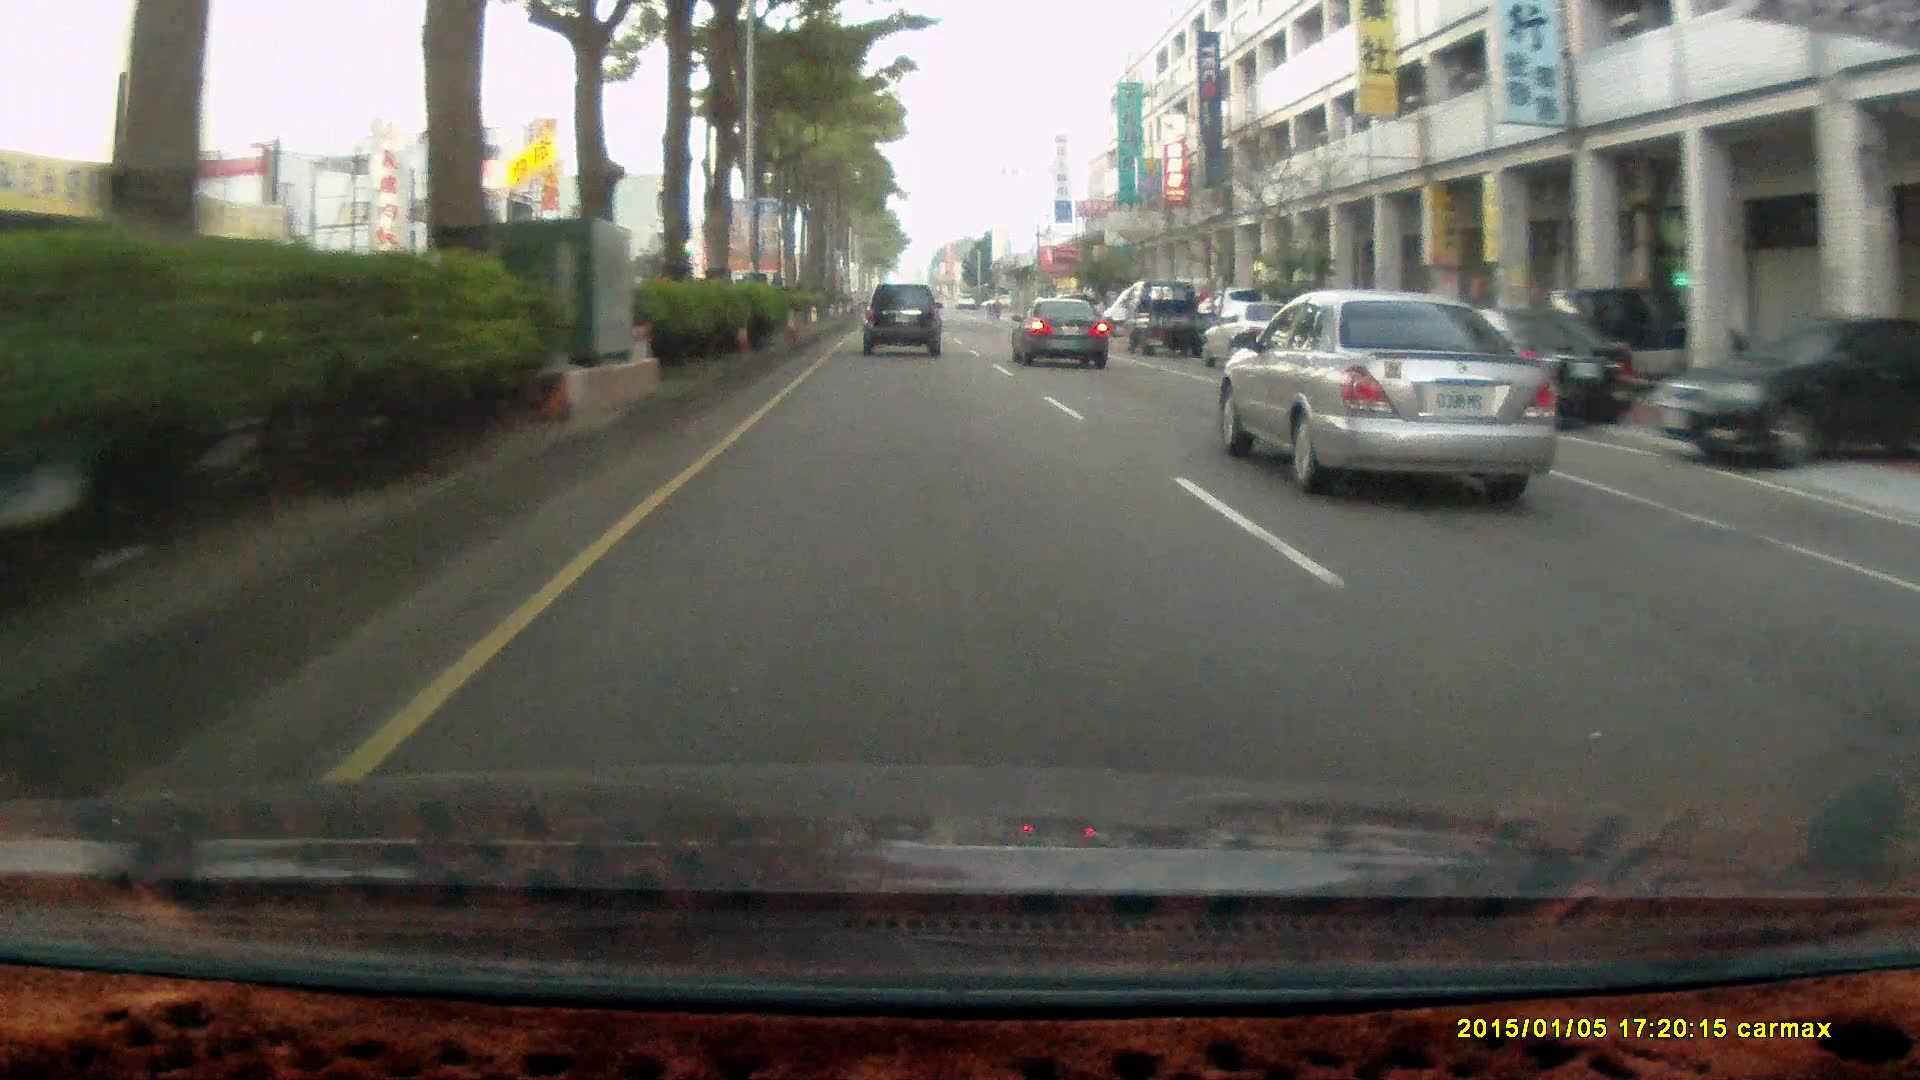vehicle: (1217, 286, 1556, 492), (1650, 315, 1920, 468), (1662, 316, 1917, 477), (1393, 303, 1638, 429), (1197, 299, 1317, 375), (1207, 299, 1325, 375), (1125, 280, 1229, 363), (1124, 276, 1216, 353), (1018, 297, 1117, 369), (1009, 295, 1108, 367), (861, 284, 945, 360), (858, 281, 942, 352)
